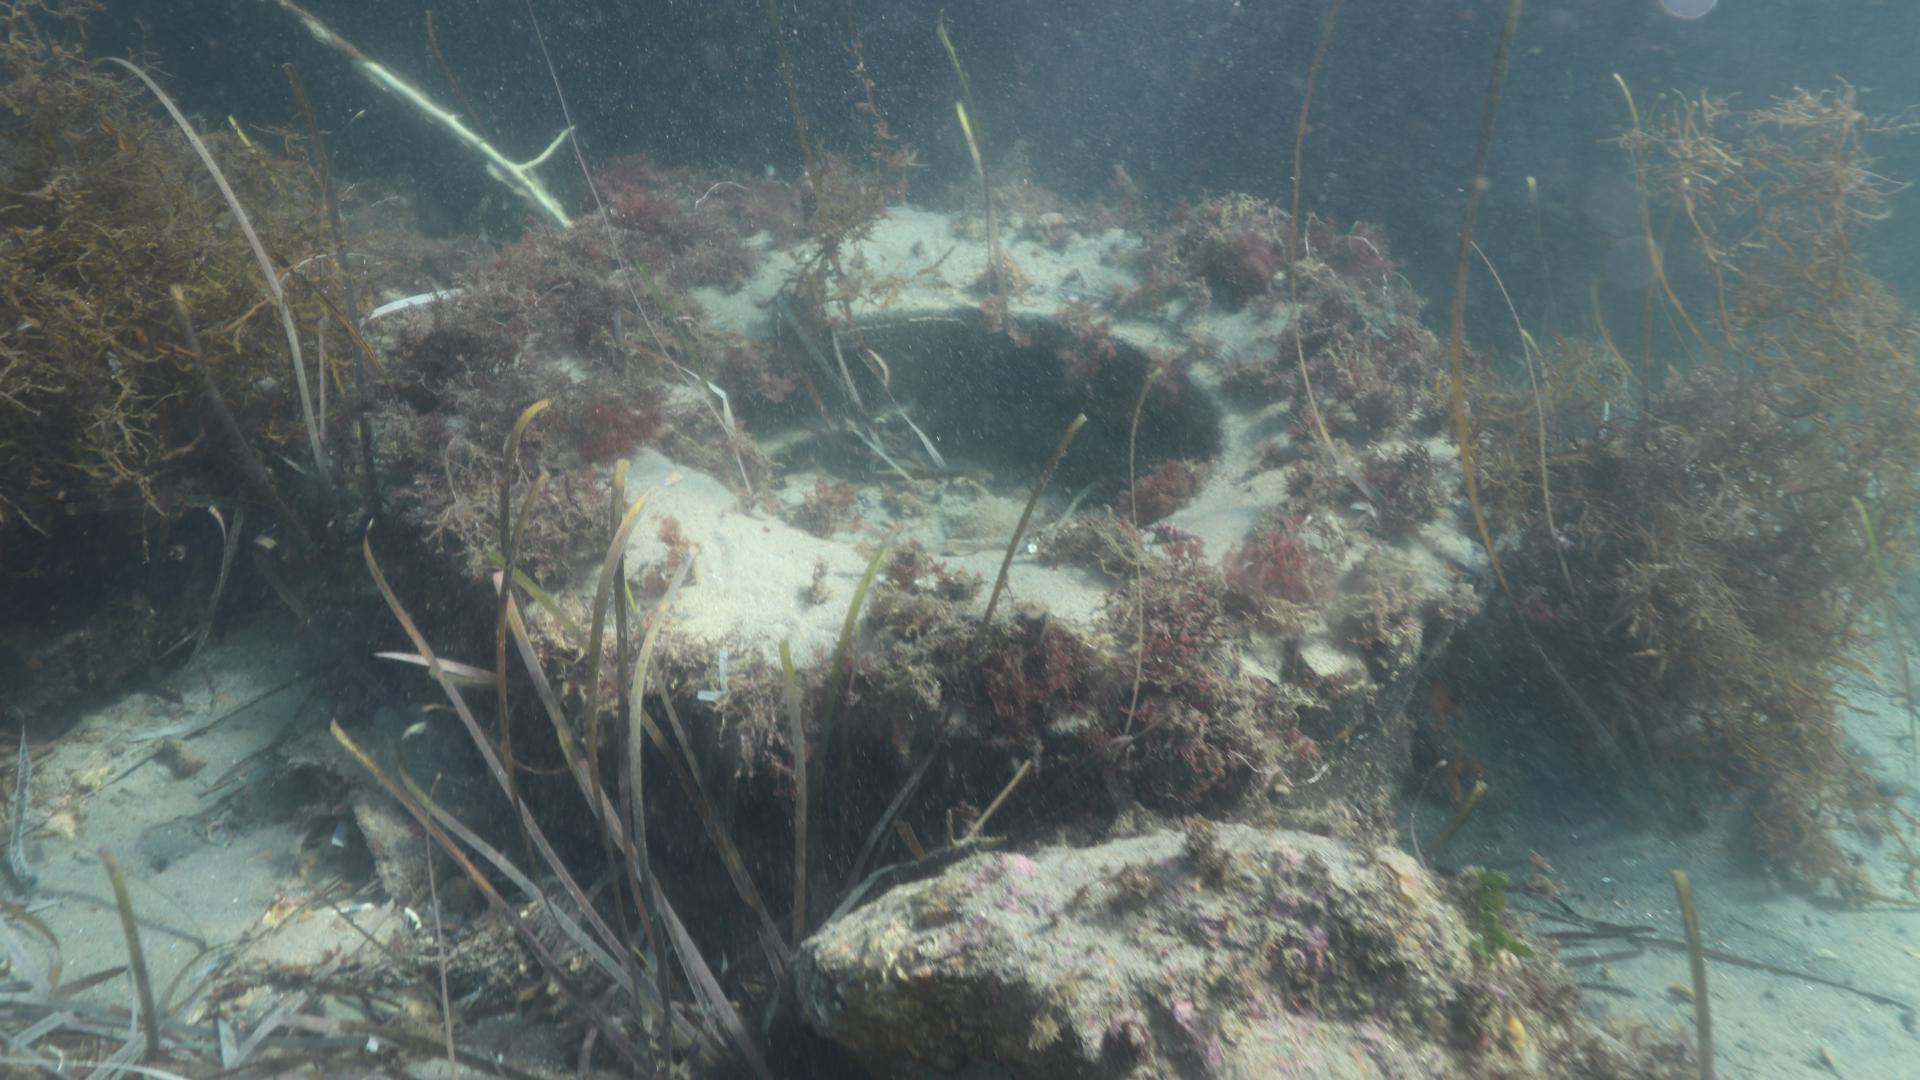tire: (613, 203, 1522, 825)
